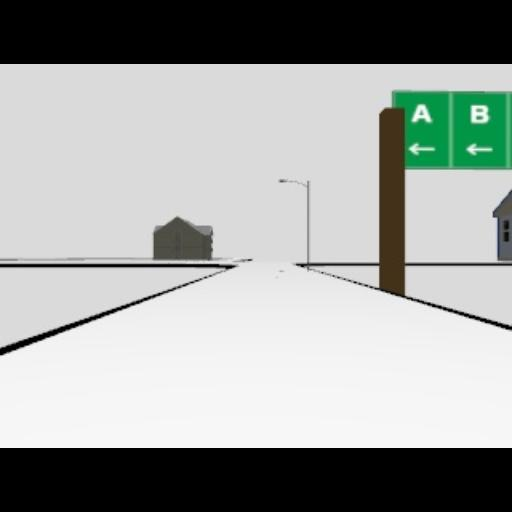A: (412, 102, 432, 124)
B: (468, 104, 488, 124)
Left: (406, 142, 436, 156), (463, 142, 493, 156)
